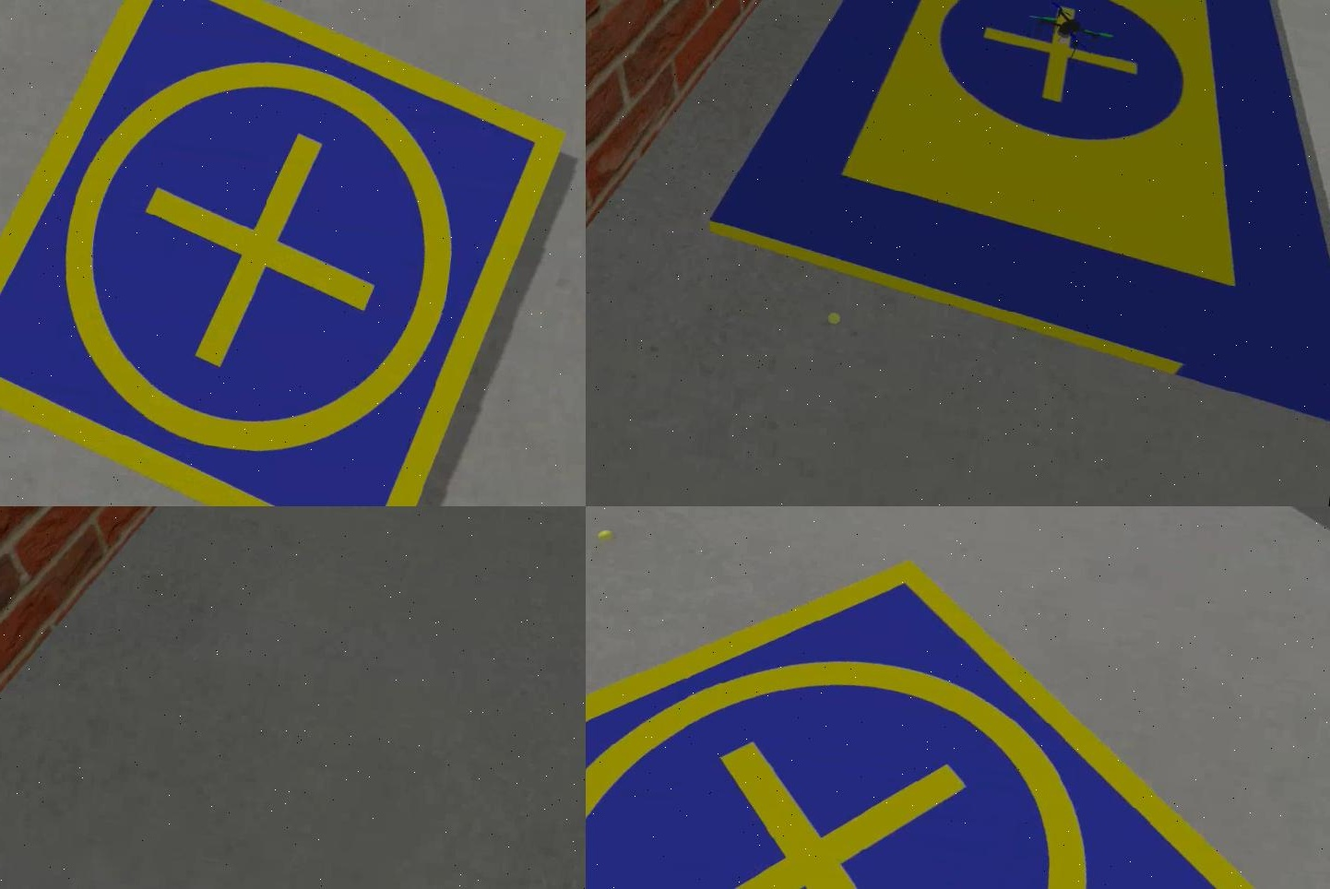large_base: (684, 1, 1328, 421)
small_base: (0, 1, 584, 506), (584, 506, 1328, 889)
